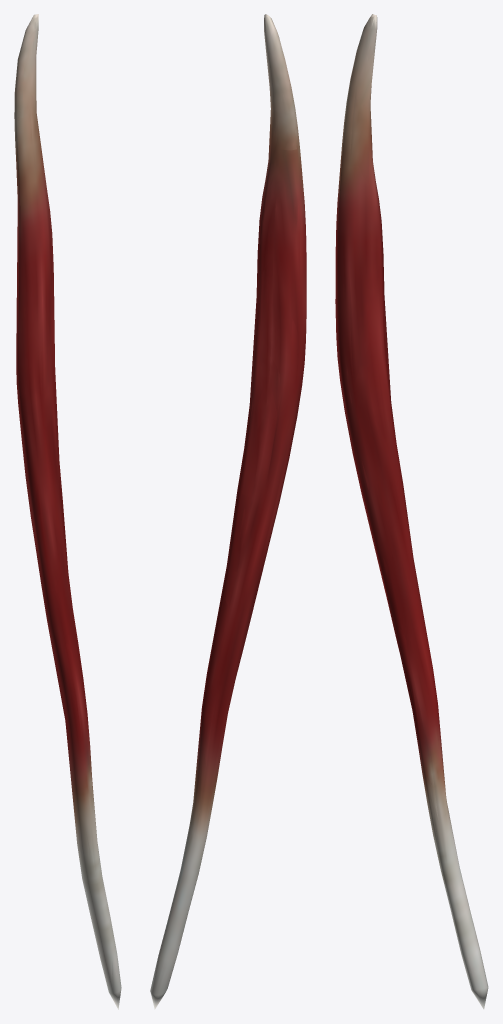
Rendered from R Extensor carpi radialis.fbx.
3 views of the same model, side by side, from view 1: azimuth 30°, elevation 25°; view 2: azimuth 150°, elevation 25°; view 3: azimuth 330°, elevation 25° (orthographic). The views are drawn at different scales.
Visible parts, largest first — view 1: R Extensor carpi radialis, R Extensor carpi radialis low, R Extensor carpi radialis high; view 2: R Extensor carpi radialis, R Extensor carpi radialis low, R Extensor carpi radialis high; view 3: R Extensor carpi radialis, R Extensor carpi radialis low, R Extensor carpi radialis high.
Part boxes in pixels (x1,y1,x2,y2): R Extensor carpi radialis: [14, 14, 121, 1009]; R Extensor carpi radialis low: [16, 14, 118, 993]; R Extensor carpi radialis high: [17, 21, 118, 976]; R Extensor carpi radialis: [150, 15, 306, 1009]; R Extensor carpi radialis low: [150, 14, 304, 992]; R Extensor carpi radialis high: [155, 24, 303, 973]; R Extensor carpi radialis: [335, 14, 488, 1009]; R Extensor carpi radialis low: [343, 14, 476, 990]; R Extensor carpi radialis high: [337, 20, 479, 973].
Bounding box in the file's own units: 1.39 × 10.55 × 0.6828.
